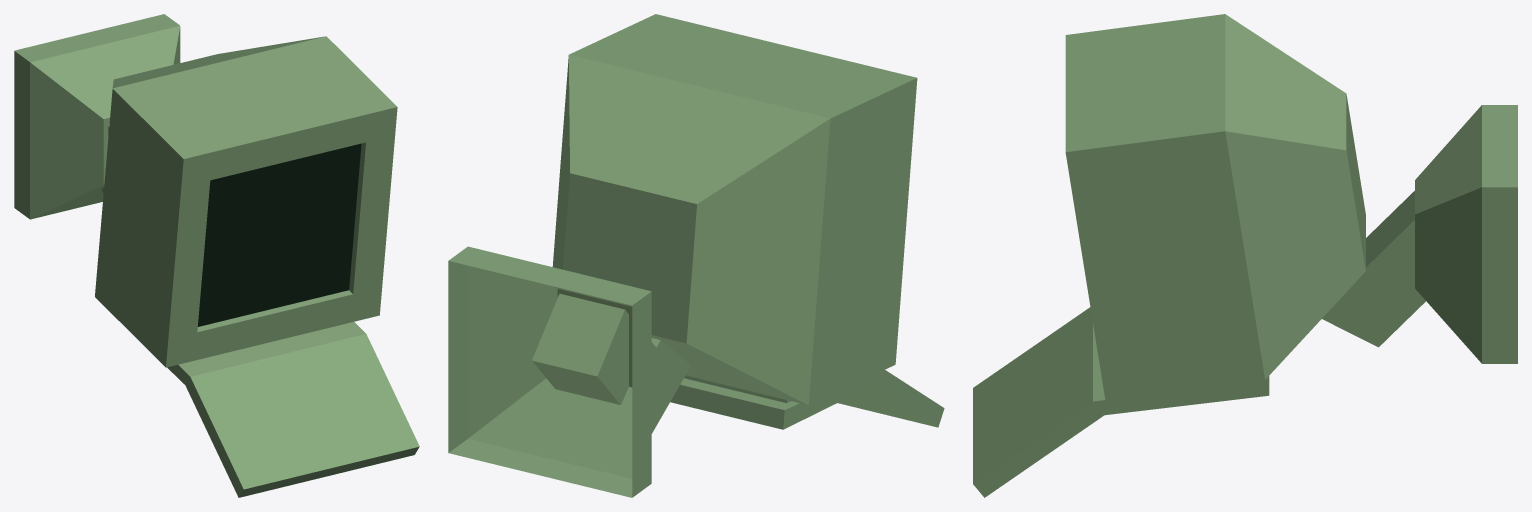
Rendered from Pc_WallFixed.dae.
3 views of the same model, side by side, from view 1: azimuth 30°, elevation 25°; view 2: azimuth 150°, elevation 25°; view 3: azimuth 270°, elevation 25° (orthographic). The views are drawn at different scales.
Parts seen in each view (by area): view 1: pCube2, pCube5; view 2: pCube2, pCube5, pCube4, pCube3; view 3: pCube2, pCube5, pCube4, pCube3.
Part boxes in pixels (x1,y1,x2,y2): pCube2: (95, 36, 419, 497); pCube5: (14, 14, 180, 219); pCube2: (552, 14, 944, 429); pCube5: (448, 246, 651, 497); pCube4: (532, 293, 676, 431); pCube3: (651, 338, 690, 433); pCube2: (973, 14, 1365, 497); pCube5: (1415, 105, 1517, 363); pCube4: (1351, 191, 1425, 347); pCube3: (1322, 269, 1411, 346).
Bounding box in the file's own units: 1 × 1.5 × 1.96.
